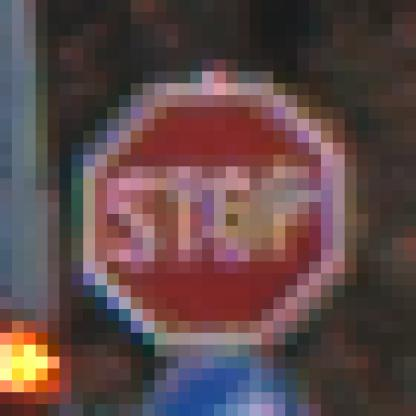Stop: (86, 86, 344, 349)
